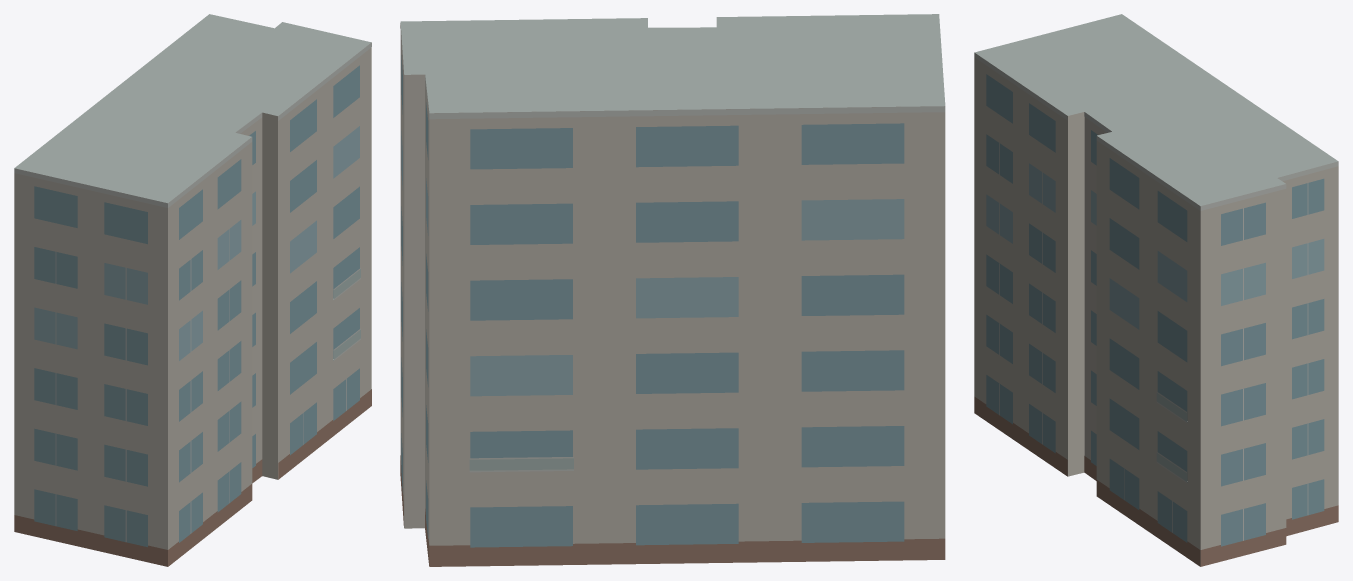
Rendered from survey-upis-32777005.glb.
3 views of the same model, side by side, from view 1: azimuth 30°, elevation 25°; view 2: azimuth 150°, elevation 25°; view 3: azimuth 270°, elevation 25° (orthographic). The views are drawn at different scales.
Visible parts, largest first — view 1: survey-upis-32777005.tmp; view 2: survey-upis-32777005.tmp; view 3: survey-upis-32777005.tmp.
Part boxes in pixels (x1,y1,x2,y2): survey-upis-32777005.tmp: (14,14,371,566); survey-upis-32777005.tmp: (400,14,945,566); survey-upis-32777005.tmp: (974,14,1338,566).
Size of the model in its own units: 20.92 by 18.3 by 16.76.
